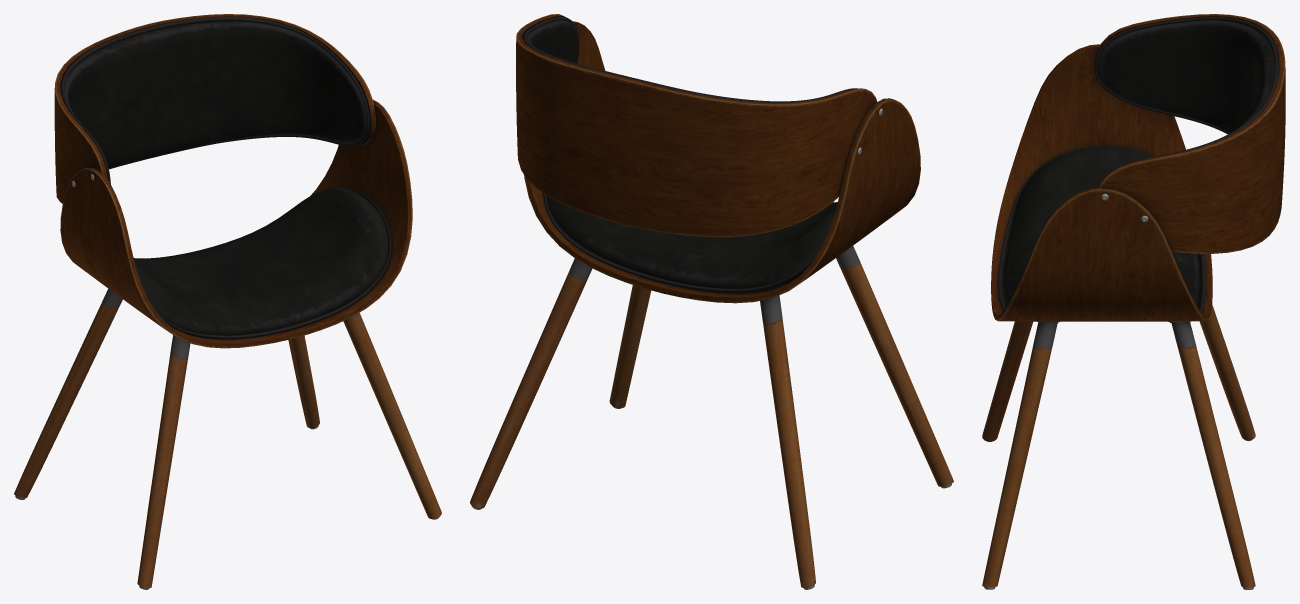
The model's file is midCenturyChair.gltf.
3 views of the same model, side by side, from view 1: azimuth 30°, elevation 25°; view 2: azimuth 150°, elevation 25°; view 3: azimuth 270°, elevation 25° (orthographic). The views are drawn at different scales.
Visible parts, largest first — view 1: polySurface50, polySurface48, polySurface16, polySurface51, polySurface27, polySurface42, polySurface28, polySurface46, polySurface43, polySurface49; view 2: polySurface51, polySurface16, polySurface48, polySurface28, polySurface43, polySurface27, polySurface42, polySurface50, polySurface49, polySurface46; view 3: polySurface16, polySurface51, polySurface50, polySurface48, polySurface42, polySurface43, polySurface28, polySurface27, polySurface46, polySurface49, polySurface33, polySurface32.
Boxes of the visible parts, bbox=[...] form: polySurface50: bbox=[60, 21, 367, 174]; polySurface48: bbox=[133, 187, 388, 335]; polySurface16: bbox=[60, 100, 412, 348]; polySurface51: bbox=[54, 14, 376, 203]; polySurface27: bbox=[137, 354, 187, 588]; polySurface42: bbox=[343, 313, 441, 518]; polySurface28: bbox=[14, 303, 118, 497]; polySurface46: bbox=[60, 16, 370, 183]; polySurface43: bbox=[288, 335, 319, 428]; polySurface49: bbox=[155, 187, 391, 339]; polySurface51: bbox=[516, 14, 877, 237]; polySurface16: bbox=[524, 21, 920, 303]; polySurface48: bbox=[546, 195, 837, 288]; polySurface28: bbox=[763, 319, 815, 587]; polySurface43: bbox=[470, 271, 587, 508]; polySurface27: bbox=[840, 262, 953, 486]; polySurface42: bbox=[609, 285, 651, 408]; polySurface50: bbox=[526, 20, 578, 63]; polySurface49: bbox=[543, 193, 819, 292]; polySurface46: bbox=[522, 17, 857, 102]; polySurface16: bbox=[991, 44, 1212, 321]; polySurface51: bbox=[1094, 14, 1285, 253]; polySurface50: bbox=[1097, 20, 1274, 133]; polySurface48: bbox=[1001, 147, 1201, 308]; polySurface42: bbox=[982, 348, 1051, 586]; polySurface43: bbox=[1177, 347, 1255, 586]; polySurface28: bbox=[1199, 304, 1255, 440]; polySurface27: bbox=[982, 321, 1032, 441]; polySurface46: bbox=[1094, 17, 1279, 187]; polySurface49: bbox=[997, 145, 1205, 312]; polySurface33: bbox=[1032, 321, 1059, 348]; polySurface32: bbox=[1168, 321, 1196, 347].
Bounding box in the file's own units: 0.8524 × 1.15 × 0.6993.
